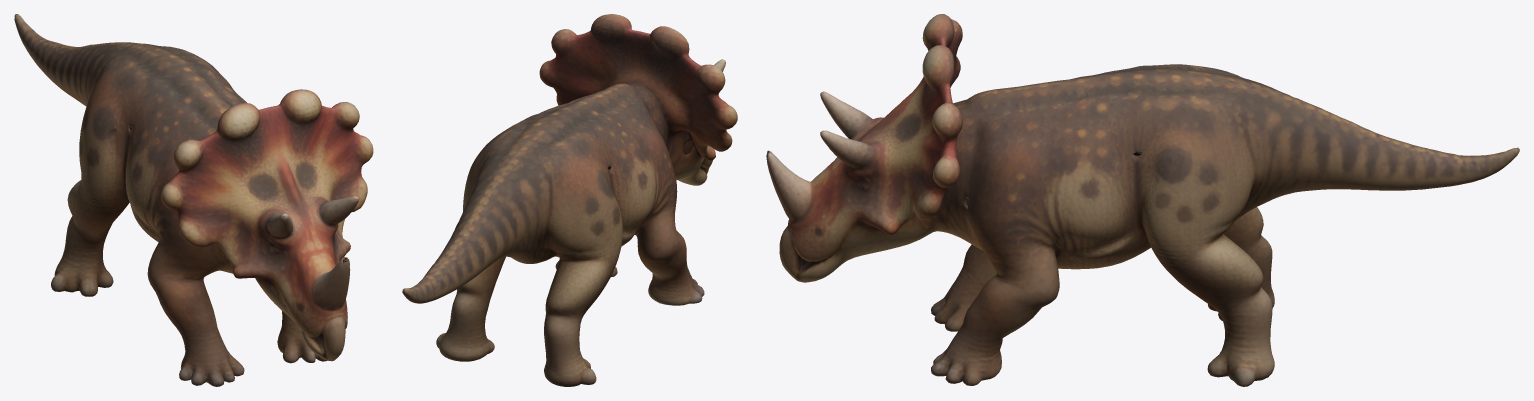
3 views of the same model, side by side, from view 1: azimuth 30°, elevation 25°; view 2: azimuth 150°, elevation 25°; view 3: azimuth 270°, elevation 25° (orthographic). The views are drawn at different scales.
Parts seen in each view (by area): view 1: world; view 2: world; view 3: world.
Boxes of the visible parts, <box> form: world: <box>14,14,373,386</box>; world: <box>402,14,737,386</box>; world: <box>766,14,1519,386</box>.
Size of the model in its own units: 1.83 by 2.29 by 5.
1 material, 1 textured.
